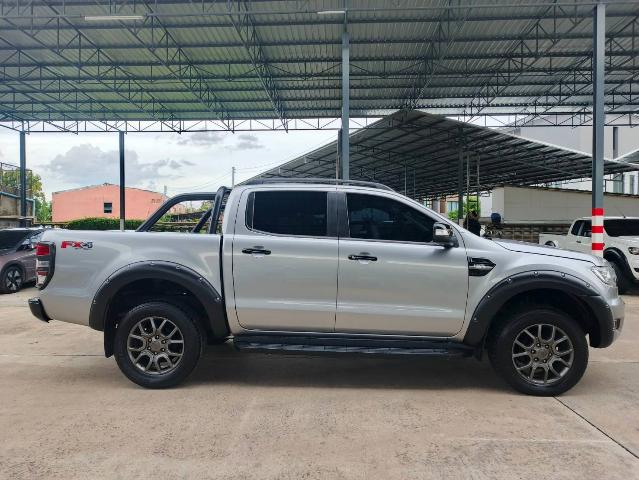pickup-truck: (22, 171, 635, 409)
